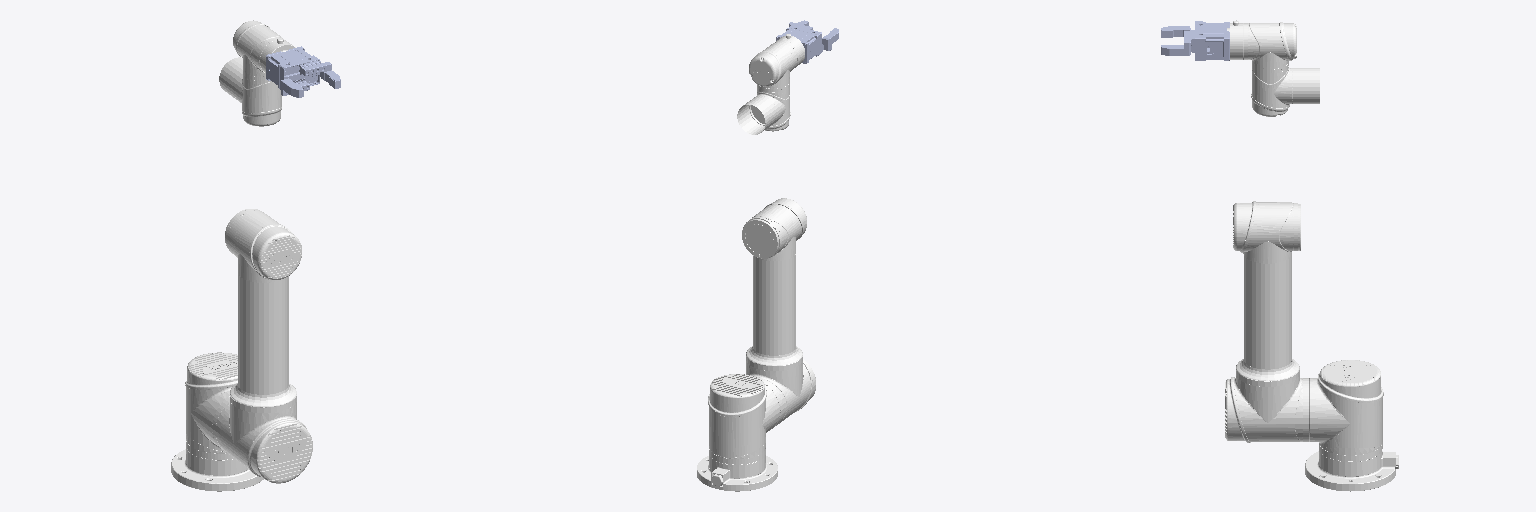
The robot description file, URDF, robot "aubo_i16_gripper":
<?xml version="1.0"?>
<robot name="aubo_i16_gripper">

  <link name="base_link">
    <inertial>
      <origin xyz="0.0 0.0028308 0.022423" rpy="0 0 0" />
      <mass value="1.3804" />
      <inertia ixx="0.0037534" ixy="0.0" ixz="0.0" iyy="0.0033643" iyz="0.0" izz="0.0064603" />
    </inertial>
    <visual>
      <origin xyz="0 0 0" rpy="0 0 0" />
      <geometry>
        <mesh filename="meshes/aubo_i16/visual/base_Link.DAE" />
      </geometry>
      <material name="">
        <color rgba="1 1 1 1" />
      </material>
    </visual>
    <collision>
      <origin xyz="0 0 0" rpy="0 0 0" />
      <geometry>
        <mesh filename="meshes/aubo_i16/collision/base_Link.STL" />
      </geometry>
    </collision>
  </link>

  <link name="shoulder_Link">
    <inertial>
      <origin xyz="0.0 0.12677 0.28186" rpy="0 0 0" />
      <mass value="7.1699" />
      <inertia ixx="0.63338" ixy="0.0" ixz="0.0" iyy="0.58429" iyz="-0.043514" izz="0.063992" />
    </inertial>
    <visual>
      <origin xyz="0 0 0" rpy="0 0 0" />
      <geometry>
        <mesh filename="meshes/aubo_i16/visual/shoulder_Link.DAE" />
      </geometry>
      <material name="">
        <color rgba="1 1 1 1" />
      </material>
    </visual>
    <collision>
      <origin xyz="0 0 0" rpy="0 0 0" />
      <geometry>
        <mesh filename="meshes/aubo_i16/collision/shoulder_Link.STL" />
      </geometry>
    </collision>
  </link>

  <joint name="shoulder_joint" type="revolute">
    <origin xyz="0 0 0.163" rpy="0 0 3.1416" />
    <parent link="base_link" />
    <child link="shoulder_Link" />
    <axis xyz="0 0 1" />
    <limit lower="-6.5" upper="6.5" effort="0" velocity="0" />
  </joint>

  <link name="upperArm_Link">
    <inertial>
      <origin xyz="0.243589520699327 0.0 0.00600111824205077" rpy="0 0 0" />
      <mass value="3.70827585534885" />
      <inertia ixx="0.00681728559415309" ixy="0.0" ixz="0.0" iyy="0.0397176571714556" iyz="0.0" izz="0.0397173271934915" />
    </inertial>
    <visual>
      <origin xyz="0 0 0" rpy="0 0 0" />
      <geometry>
        <mesh filename="meshes/aubo_i16/visual/upperArm_Link.DAE" />
      </geometry>
      <material name="">
        <color rgba="1 1 1 1" />
      </material>
    </visual>
    <collision>
      <origin xyz="0 0 0" rpy="0 0 0" />
      <geometry>
        <mesh filename="meshes/aubo_i16/collision/upperArm_Link.STL" />
      </geometry>
    </collision>
  </link>

  <joint name="upperArm_joint" type="revolute">
    <origin xyz="0 0.191 0" rpy="-1.5708 -1.5708 0" />
    <parent link="shoulder_Link" />
    <child link="upperArm_Link" />
    <axis xyz="0 0 1" />
    <limit lower="-6.5" upper="6.5" effort="0" velocity="0" />
  </joint>

  <link name="foreArm_Link">
    <inertial>
      <origin xyz="0.13154 0.0 0.11387" rpy="0 0 0" />
      <mass value="1.9726" />
      <inertia ixx="0.001838" ixy="0.0" ixz="-0.00099364" iyy="0.023606" iyz="0.0" izz="0.023656" />
    </inertial>
    <visual>
      <origin xyz="0 0 0" rpy="0 0 0" />
      <geometry>
        <mesh filename="meshes/aubo_i16/visual/foreArm_Link.DAE" />
      </geometry>
      <material name="">
        <color rgba="1 1 1 1" />
      </material>
    </visual>
    <collision>
      <origin xyz="0 0 0" rpy="0 0 0" />
      <geometry>
        <mesh filename="meshes/aubo_i16/collision/foreArm_Link.STL" />
      </geometry>
    </collision>
  </link>

  <joint name="foreArm_joint" type="revolute">
    <origin xyz="0.48008 0 0" rpy="-3.1416 0 0" />
    <parent link="upperArm_Link" />
    <child link="foreArm_Link" />
    <axis xyz="0 0 1" />
    <limit lower="-6.5" upper="6.5" effort="0" velocity="0" />
  </joint>

  <link name="wrist1_Link">
    <inertial>
      <origin xyz="0.0 -0.56814 -0.064233" rpy="0 0 0" />
      <mass value="7.1699" />
      <inertia ixx="0.63338" ixy="0.0" ixz="0.0" iyy="0.063992" iyz="-0.043514" izz="0.58429" />
    </inertial>
    <visual>
      <origin xyz="0 0 0" rpy="0 0 0" />
      <geometry>
        <mesh filename="meshes/aubo_i16/visual/wrist1_Link.DAE" />
      </geometry>
      <material name="">
        <color rgba="1 1 1 1" />
      </material>
    </visual>
    <collision>
      <origin xyz="0 0 0" rpy="0 0 0" />
      <geometry>
        <mesh filename="meshes/aubo_i16/collision/wrist1_Link.STL" />
      </geometry>
    </collision>
  </link>

  <joint name="wrist1_joint" type="revolute">
    <origin xyz="0.36992 0 0" rpy="3.1416 0 1.5708" />
    <parent link="foreArm_Link" />
    <child link="wrist1_Link" />
    <axis xyz="0 0 1" />
    <limit lower="-6.5" upper="6.5" effort="0" velocity="0" />
  </joint>

  <link name="wrist2_Link">
    <inertial>
      <origin xyz="0.0 0.064233 -0.68564" rpy="0 0 0" />
      <mass value="7.1699" />
      <inertia ixx="0.63338" ixy="0.0" ixz="0.0" iyy="0.58429" iyz="0.043514" izz="0.063992" />
    </inertial>
    <visual>
      <origin xyz="0 0 0" rpy="0 0 0" />
      <geometry>
        <mesh filename="meshes/aubo_i16/visual/wrist2_Link.DAE" />
      </geometry>
      <material name="">
        <color rgba="1 1 1 1" />
      </material>
    </visual>
    <collision>
      <origin xyz="0 0 0" rpy="0 0 0" />
      <geometry>
        <mesh filename="meshes/aubo_i16/collision/wrist2_Link.STL" />
      </geometry>
    </collision>
  </link>

  <joint name="wrist2_joint" type="revolute">
    <origin xyz="0 0.1175 0" rpy="-1.5708 0 0" />
    <parent link="wrist1_Link" />
    <child link="wrist2_Link" />
    <axis xyz="0 0 1" />
    <limit lower="-6.5" upper="6.5" effort="0" velocity="0" />
  </joint>

  <link name="wrist3_Link">
    <inertial>
      <origin xyz="0.0 0.00054964 -0.017144" rpy="0 0 0" />
      <mass value="0.10863" />
      <inertia ixx="0.0" ixy="0.0" ixz="0.0" iyy="0.0" iyz="0.0" izz="0.00013551" />
    </inertial>
    <visual>
      <origin xyz="0 0 0" rpy="0 0 0" />
      <geometry>
        <mesh filename="meshes/aubo_i16/visual/wrist3_Link.DAE" />
      </geometry>
      <material name="">
        <color rgba="1 1 1 1" />
      </material>
    </visual>
    <collision>
      <origin xyz="0 0 0" rpy="0 0 0" />
      <geometry>
        <mesh filename="meshes/aubo_i16/collision/wrist3_Link.STL" />
      </geometry>
    </collision>
  </link>

  <joint name="wrist3_joint" type="revolute">
    <origin xyz="0 -0.1035 0" rpy="1.5708 0 0" />
    <parent link="wrist2_Link" />
    <child link="wrist3_Link" />
    <axis xyz="0 0 1" />
    <limit lower="-6.5" upper="6.5" effort="0" velocity="0" />
  </joint>

  <joint name="gripper_base_joint" type="fixed">
    <parent link="wrist3_Link" />
    <child link="gripper_base_link" />
    <origin xyz="0 0 0" rpy="0 0 0" />
  </joint>

  <link name="gripper_base_link">
    <inertial>
      <origin xyz="0.000776249315939448 -9.32733579416881E-05 0.0353238890747118" rpy="0 0 0" />
      <mass value="0.175159784385337" />
      <inertia ixx="8.17697339684563E-05" ixy="-3.45127488505508E-09" ixz="-1.78295110539977E-06" iyy="0.000167947939418876" iyz="-4.09263769978131E-08" izz="0.000222515998258674" />
    </inertial>
    <visual>
      <origin xyz="0 0 0" rpy="0 0 0" />
      <geometry>
        <mesh filename="meshes/gripper/base_link.STL" />
      </geometry>
      <material name="">
        <color rgba="0.792156862745098 0.819607843137255 0.933333333333333 1" />
      </material>
    </visual>
    <collision>
      <origin xyz="0 0 0" rpy="0 0 0" />
      <geometry>
        <mesh filename="meshes/gripper/base_link.STL" />
      </geometry>
    </collision>
  </link>

  <link name="left_link">
    <inertial>
      <origin xyz="0.037632 -0.0088006 0.00096534" rpy="0 0 0" />
      <mass value="0.055911" />
      <inertia ixx="1.8833E-05" ixy="4.3686E-06" ixz="-4.9039E-06" iyy="3.1447E-05" iyz="3.7712E-06" izz="2.217E-05" />
    </inertial>
    <visual>
      <origin xyz="0 0 0" rpy="0 0 0" />
      <geometry>
        <mesh filename="meshes/gripper/left_link.STL" />
      </geometry>
      <material name="">
        <color rgba="0.79216 0.81961 0.93333 1" />
      </material>
    </visual>
    <collision>
      <origin xyz="0 0 0" rpy="0 0 0" />
      <geometry>
        <mesh filename="meshes/gripper/left_link.STL" />
      </geometry>
    </collision>
  </link>

  <joint name="left_joint" type="prismatic">
    <origin xyz="-0.04 0 0.14124" rpy="0 1.5708 0" />
    <parent link="gripper_base_link" />
    <child link="left_link" />
    <axis xyz="0 0 -1" />
    <limit lower="-0.04" upper="0" effort="100" velocity="1" />
  </joint>

  <link name="right_link">
    <inertial>
      <origin xyz="-0.037632201993843 0.00880061259646711 0.000965336223160473" rpy="0 0 0" />
      <mass value="0.0559111685912142" />
      <inertia ixx="1.88326524562505E-05" ixy="4.36861035916738E-06" ixz="4.90389857081758E-06" iyy="3.1447169883483E-05" iyz="-3.77124422603238E-06" izz="2.21699046566701E-05" />
    </inertial>
    <visual>
      <origin xyz="0 0 0" rpy="0 0 0" />
      <geometry>
        <mesh filename="meshes/gripper/right_link.STL" />
      </geometry>
      <material name="">
        <color rgba="0.792156862745098 0.819607843137255 0.933333333333333 1" />
      </material>
    </visual>
    <collision>
      <origin xyz="0 0 0" rpy="0 0 0" />
      <geometry>
        <mesh filename="meshes/gripper/right_link.STL" />
      </geometry>
    </collision>
  </link>

  <joint name="right_joint" type="prismatic">
    <origin xyz="0.04 0 0.14124" rpy="0 -1.5708 0" />
    <parent link="gripper_base_link" />
    <child link="right_link" />
    <axis xyz="0 0 -1" />
    <limit lower="-0.04" upper="0" effort="100" velocity="1" />
  </joint>

  <link name="world" />

  <joint name="world_joint" type="fixed">
    <parent link="world" />
    <child link="base_link" />
    <origin xyz="0.0 0.0 0.0" rpy="0.0 0.0 0.0" />
  </joint>

</robot>

--- Facts derived from the render (not from the file) ---
3 views of the same robot in one strip: view 1: azimuth 30°, elevation 25°; view 2: azimuth 150°, elevation 25°; view 3: azimuth 270°, elevation 25° (orthographic).
Model aubo_i16_gripper with 11 links and 10 joints (6 revolute, 2 prismatic, 2 fixed), rooted at world, posed every joint at zero.
Visible links, largest first — view 1: upperArm_Link, shoulder_Link, wrist1_Link, base_link, wrist2_Link, gripper_base_link, right_link; view 2: upperArm_Link, shoulder_Link, base_link, wrist1_Link, wrist2_Link, gripper_base_link; view 3: upperArm_Link, shoulder_Link, base_link, wrist1_Link, wrist2_Link, gripper_base_link.
Boxes of the visible links, x1,y1,x2,y2 form: upperArm_Link: (212, 209, 312, 483); shoulder_Link: (185, 352, 237, 460); wrist1_Link: (219, 57, 281, 126); base_link: (171, 448, 263, 491); wrist2_Link: (233, 20, 285, 86); gripper_base_link: (266, 46, 319, 89); right_link: (299, 60, 340, 88); upperArm_Link: (742, 198, 815, 425); shoulder_Link: (708, 374, 779, 464); base_link: (697, 455, 777, 491); wrist1_Link: (737, 83, 790, 134); wrist2_Link: (749, 40, 799, 99); gripper_base_link: (776, 25, 821, 63); upperArm_Link: (1225, 201, 1309, 442); shoulder_Link: (1310, 360, 1383, 461); base_link: (1305, 450, 1398, 491); wrist1_Link: (1251, 62, 1319, 116); wrist2_Link: (1243, 22, 1296, 83); gripper_base_link: (1195, 21, 1229, 60).
Size in the robot's own frame: 0.218 by 0.565 by 1.18 metres.
9 mesh visuals loaded from 10 distinct referenced files (3 binary STL, 6 Collada DAE); not drawn: 1 (reference not matched to a file when rendering).
